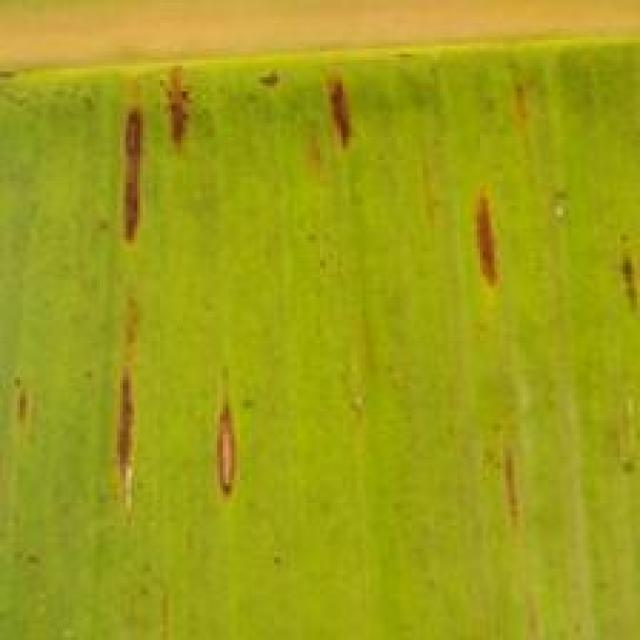Early_leaf_spot: (66, 76, 168, 512), (137, 34, 223, 190), (302, 63, 392, 203), (194, 378, 255, 532), (482, 46, 553, 150), (451, 167, 509, 294), (0, 352, 47, 456), (606, 213, 640, 342), (487, 423, 529, 522), (254, 54, 299, 128)
